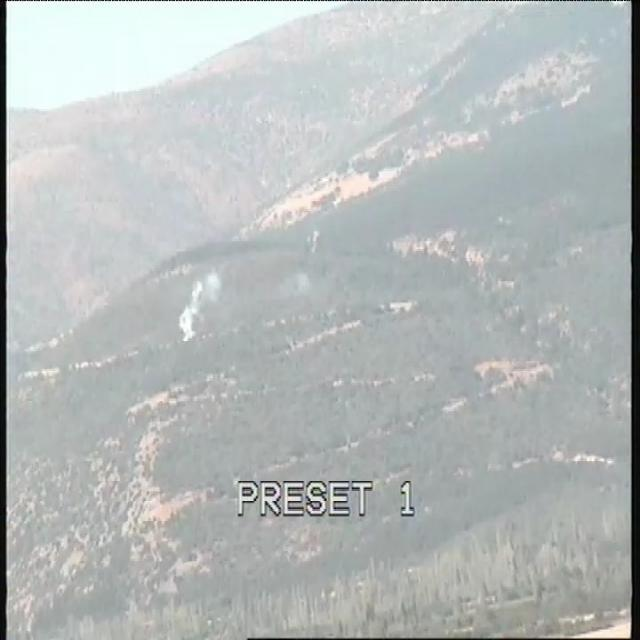smoke: (176, 260, 223, 346)
